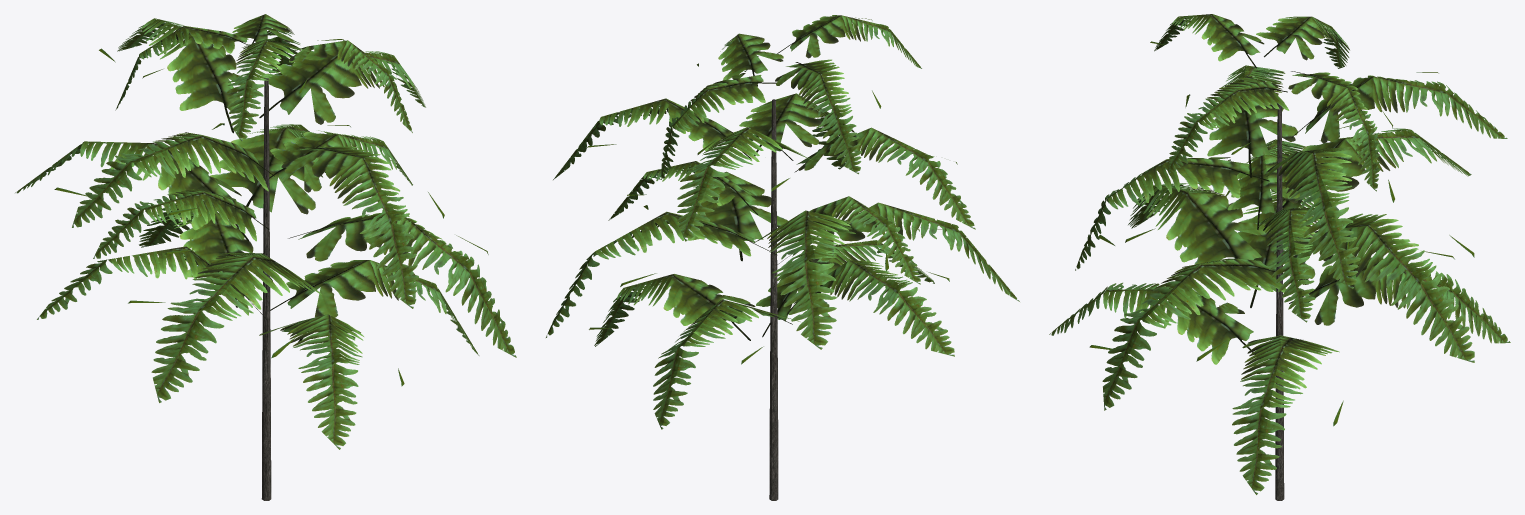
Rendered from Vegetation-05.fbx.
3 renders of one model, left to right at view 1: azimuth 30°, elevation 25°; view 2: azimuth 150°, elevation 25°; view 3: azimuth 270°, elevation 25°, orthographic. The views are drawn at different scales.
Visible parts, largest first — view 1: Vegetation-05; view 2: Vegetation-05; view 3: Vegetation-05.
Boxes of the visible parts, bbox=[...] form: Vegetation-05: bbox=[15, 14, 516, 500]; Vegetation-05: bbox=[546, 15, 1019, 500]; Vegetation-05: bbox=[1049, 14, 1510, 500].
Bounding box in the file's own units: 1.79 × 2.05 × 1.84.
